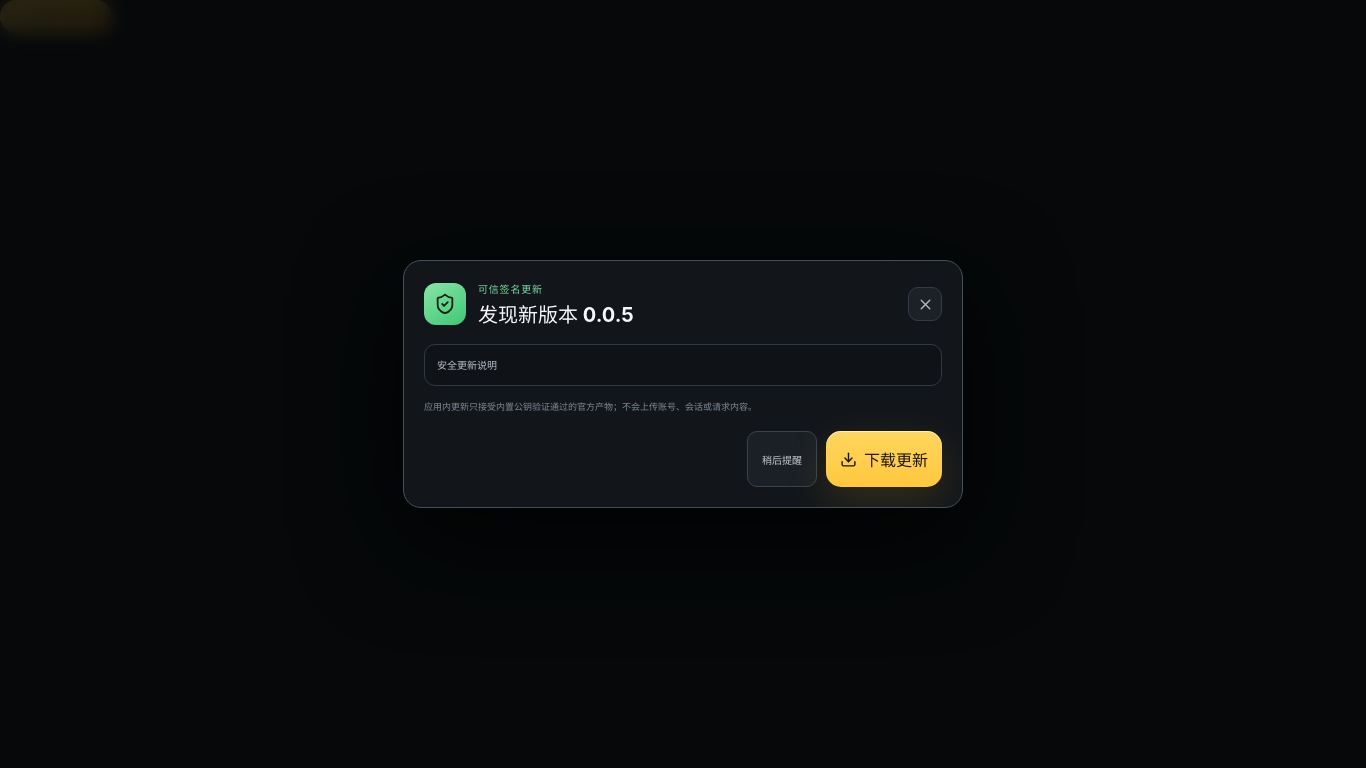
it: signed application updater › retains the downloaded state when installation fails
Click the button "下载更新" at (884, 459), box x1=826 y1=431 x2=942 y2=487
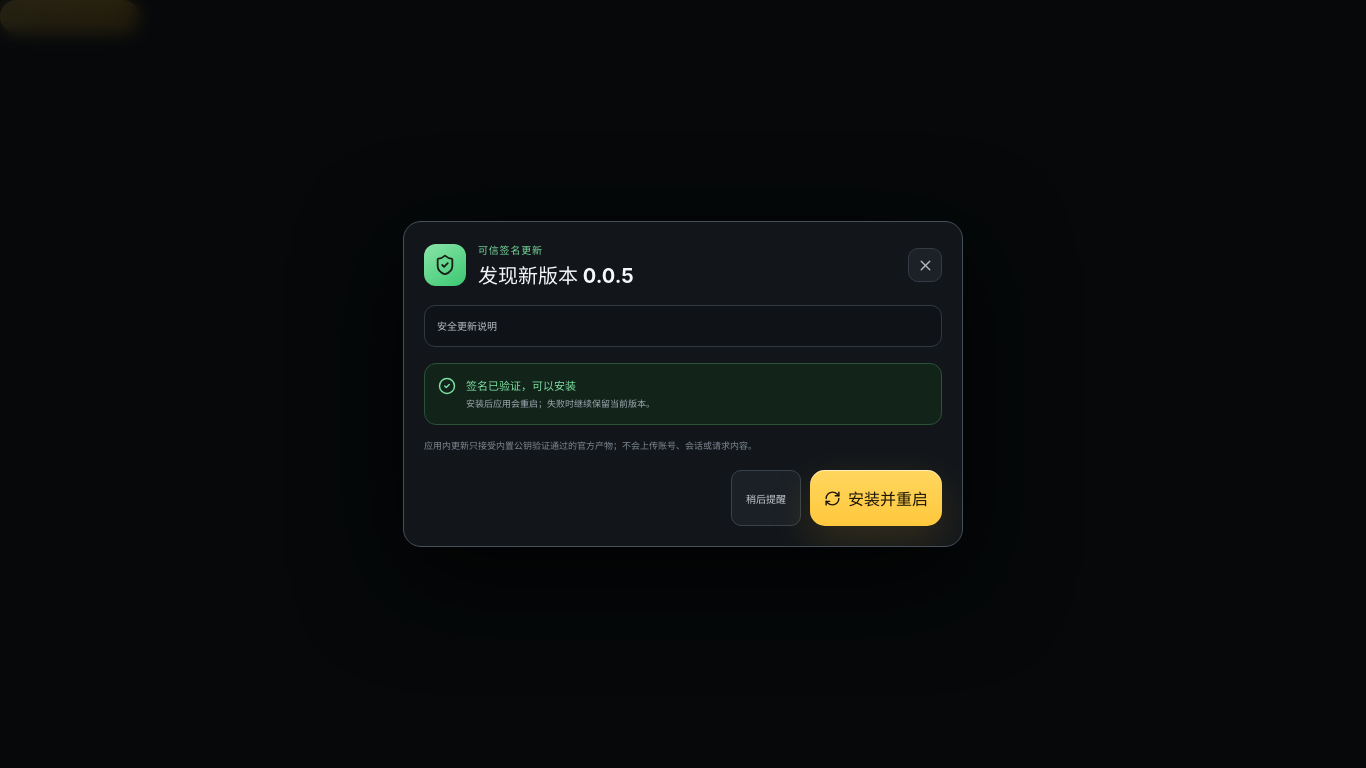
Click the button "安装并重启" at (876, 498), box x1=810 y1=470 x2=942 y2=526
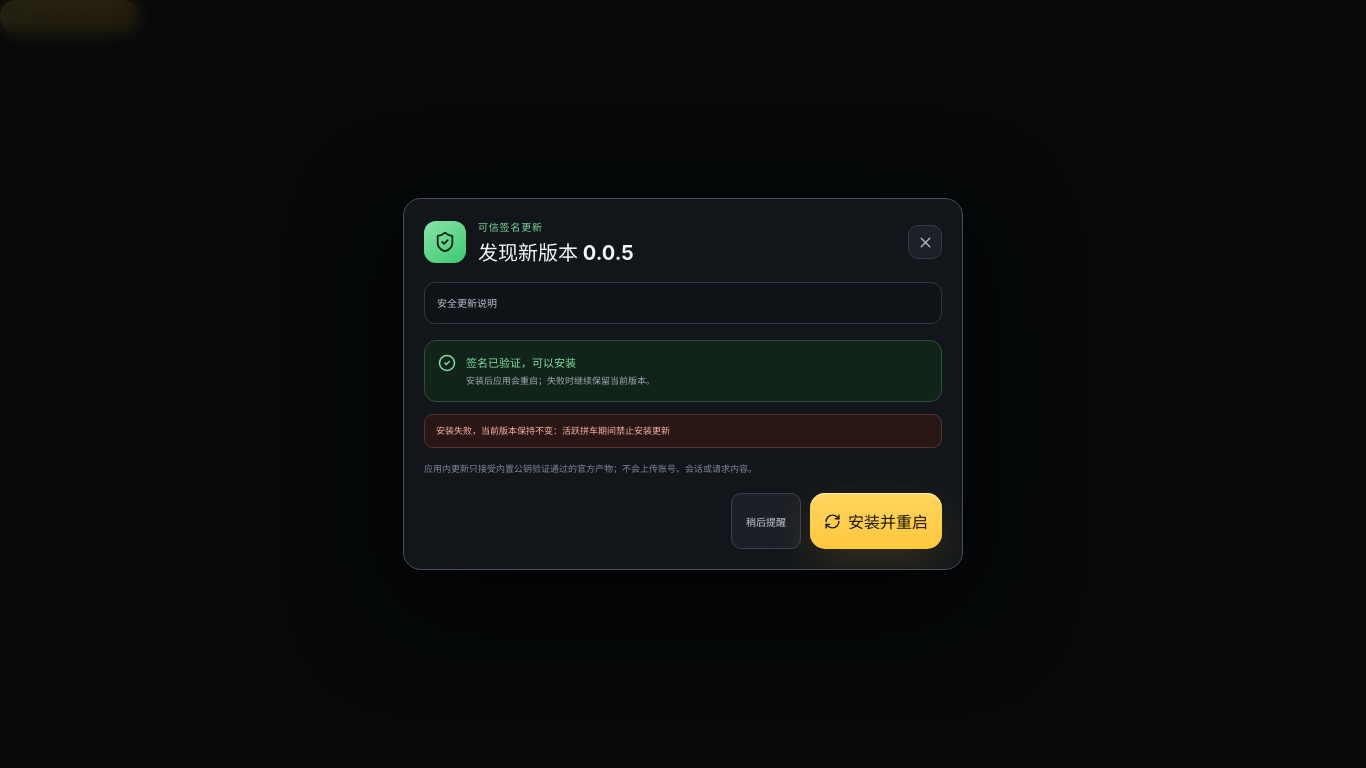
Check: the button "安装并重启" is enabled, box x1=810 y1=493 x2=942 y2=549
Check: the message "安装失败，当前版本保持不变：活跃拼车期间禁止安装更新" is shown, box x1=424 y1=414 x2=942 y2=448
